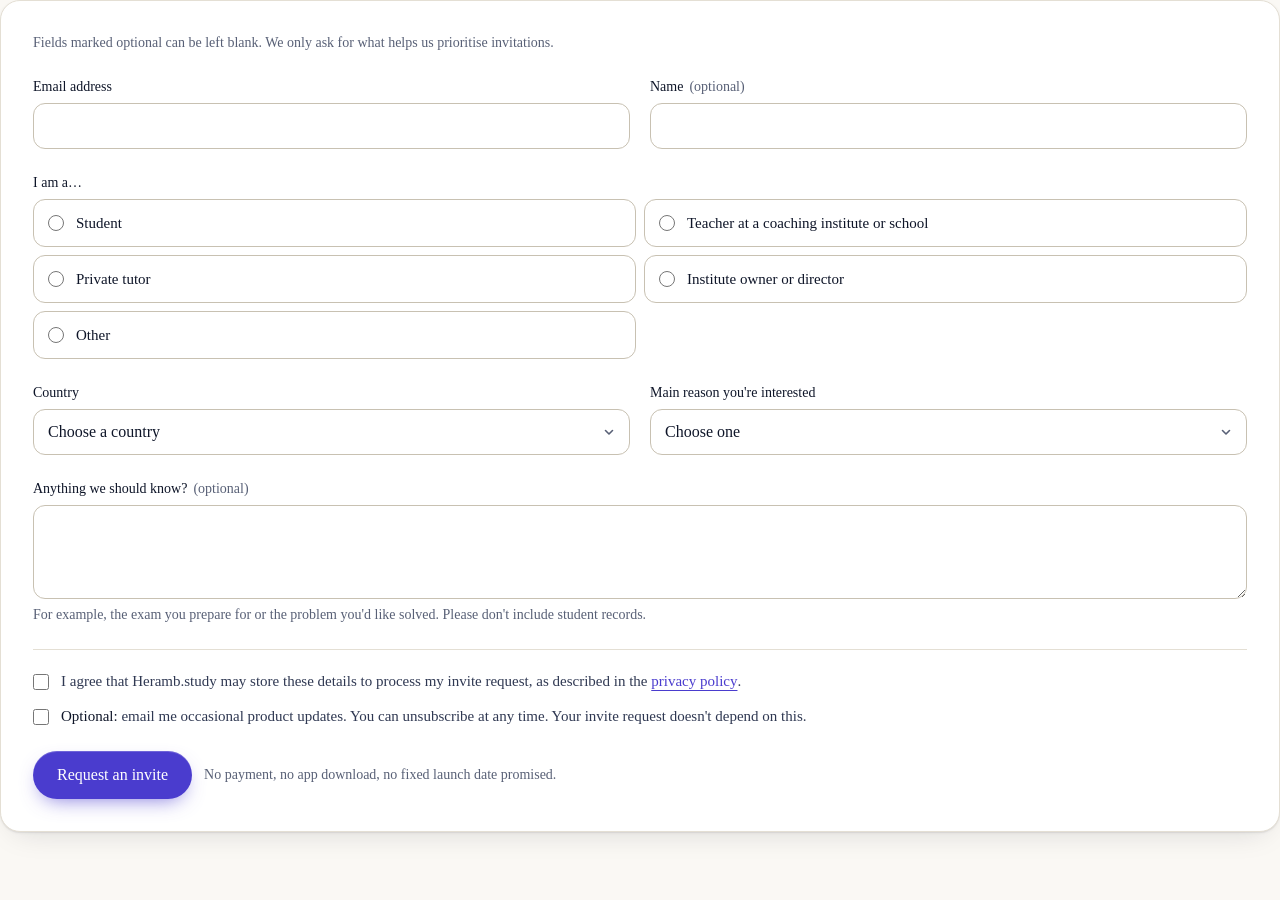
InviteForm › reports offline state without sending
This screenshot has width=1280, height=900.
In the field labelled "Email address": (332, 126) [33,103,630,149], type "teacher@example.com"
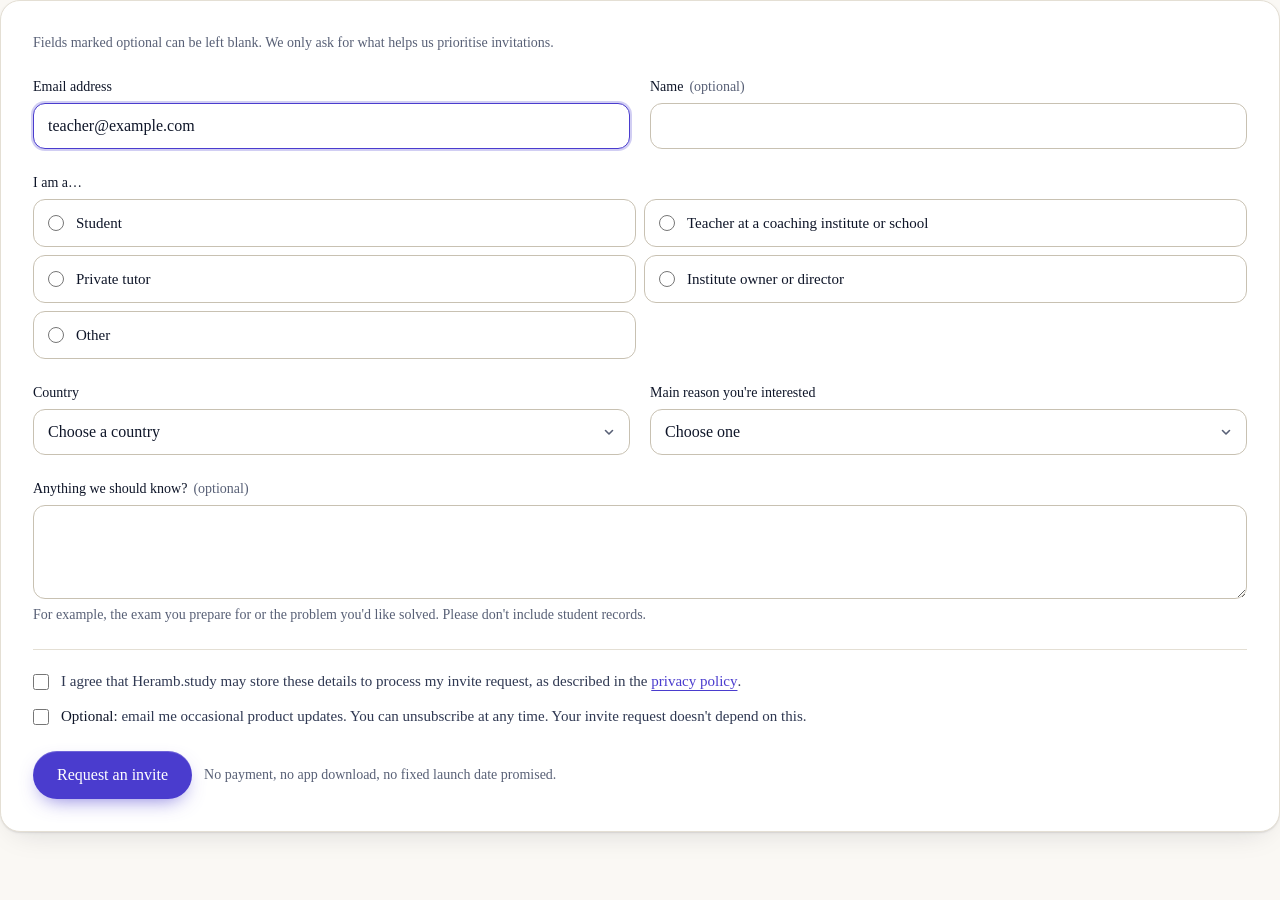
Click the radio button labelled "Private tutor": click(56, 279) [48,271,64,287]
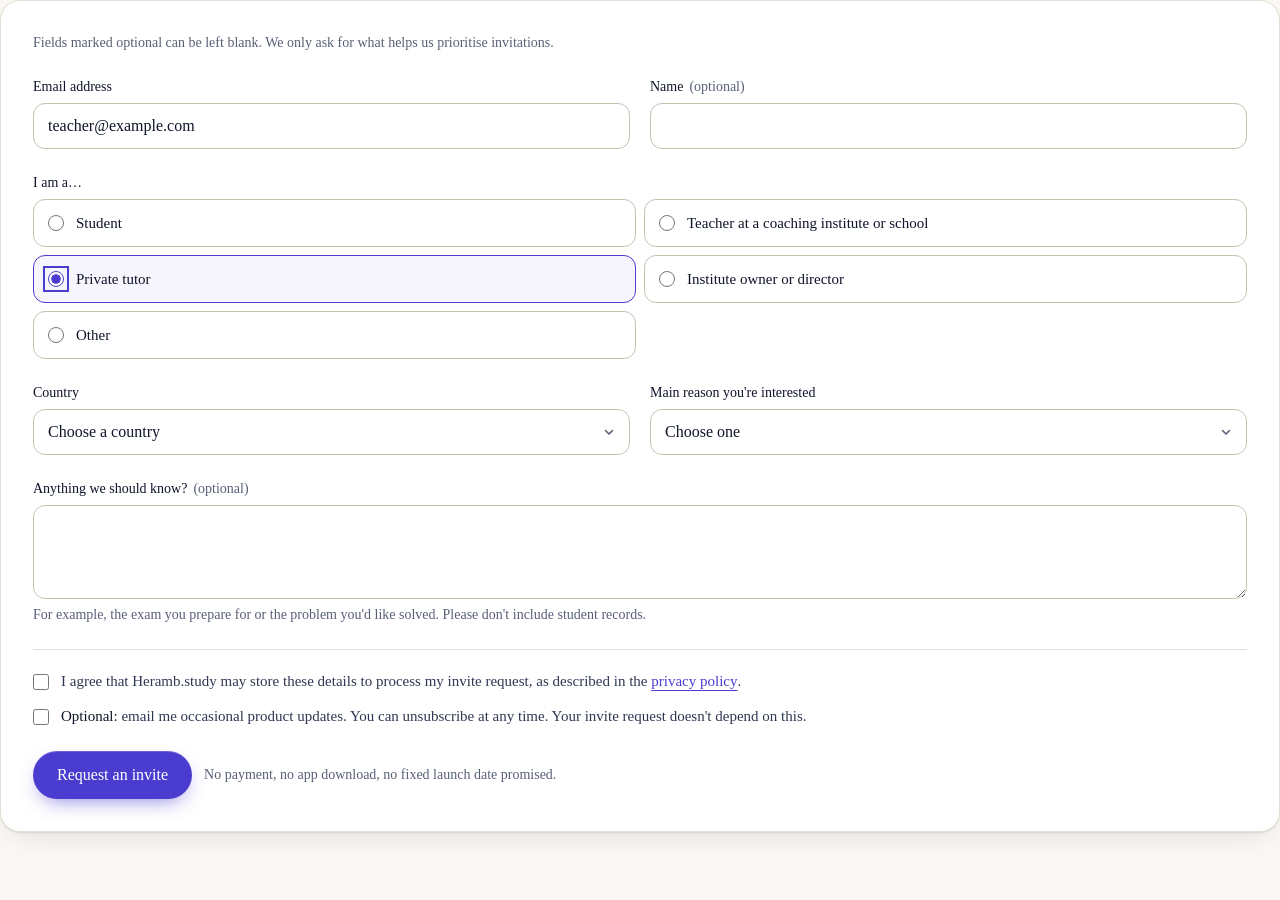
Select "India" in the dropdown labelled "Country": (332, 432) [33,409,630,455]
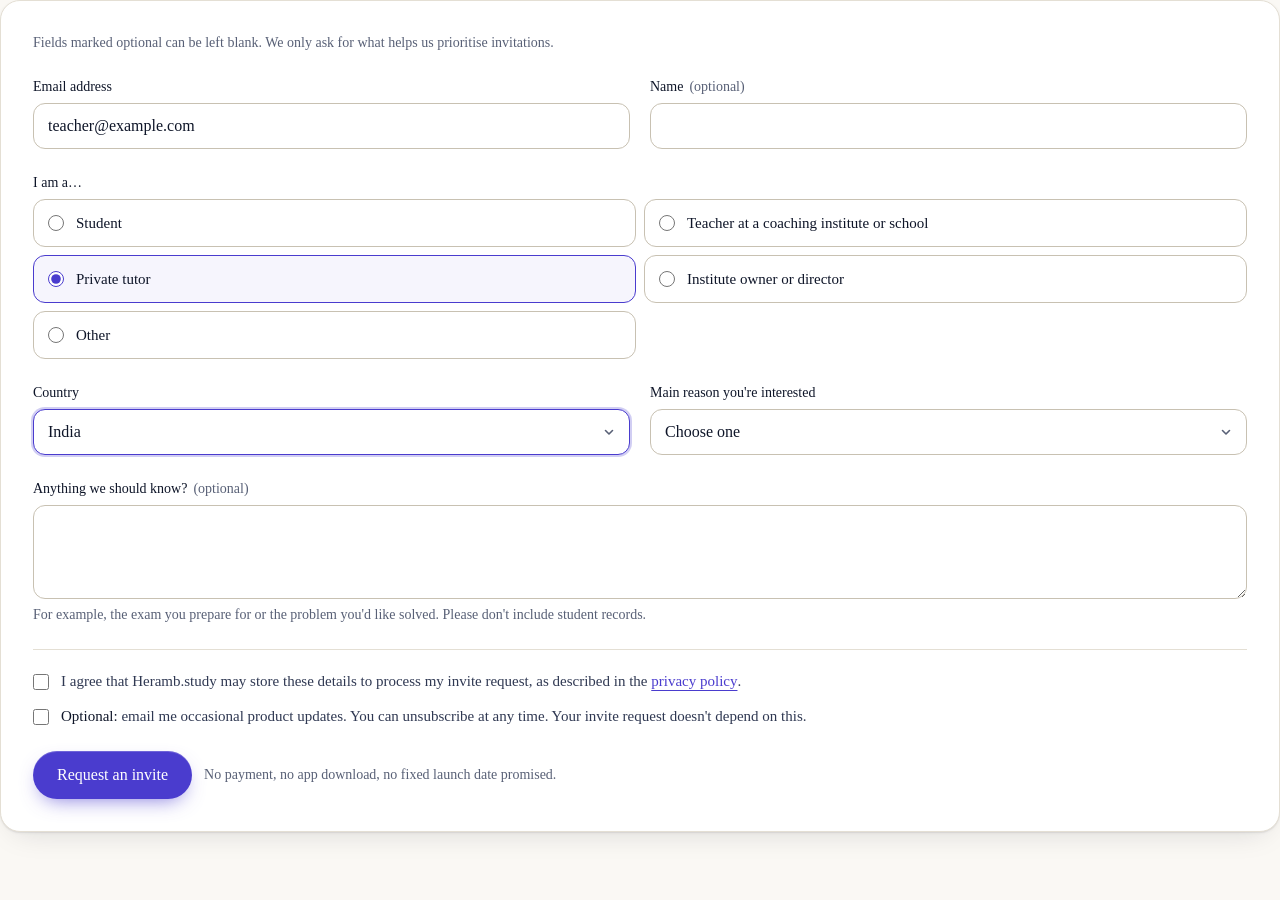
Select "Track student progress between tests" in the dropdown labelled "Main reason you're interested": (948, 432) [650,409,1247,455]
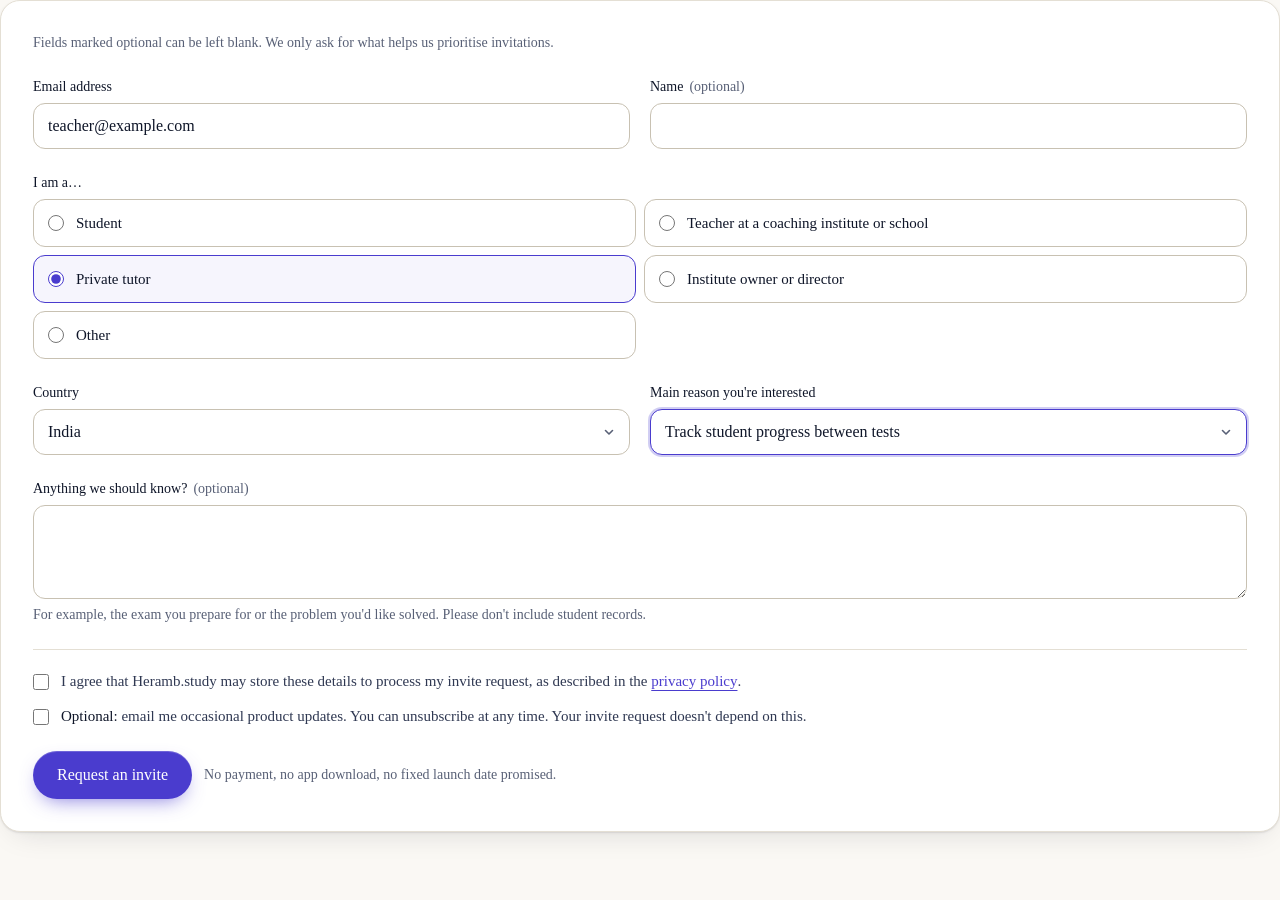
Click the checkbox labelled "I agree that Heramb.study may store": click(41, 682) [33,674,49,690]
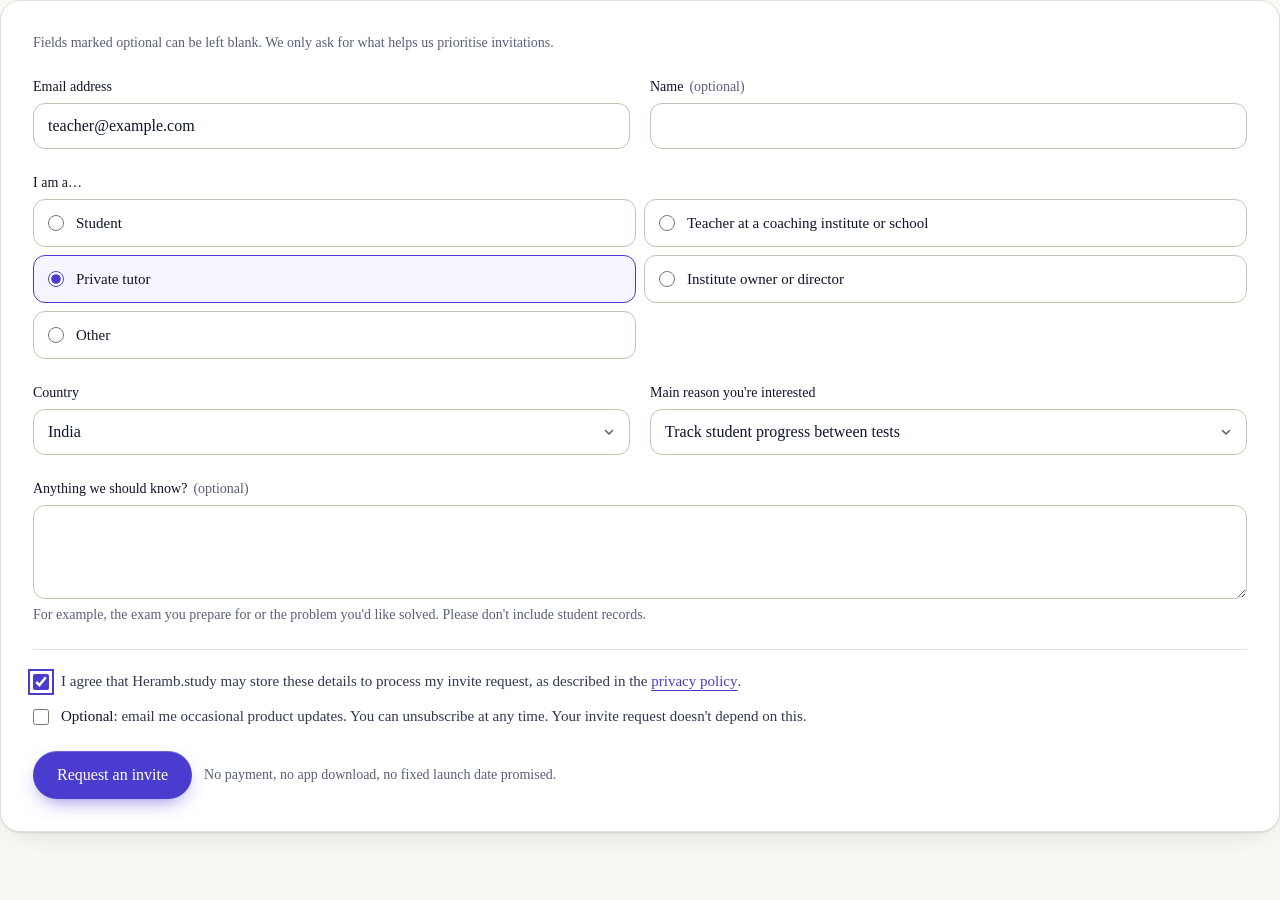
Click the button "Request an invite": click(113, 775) [33,751,192,799]
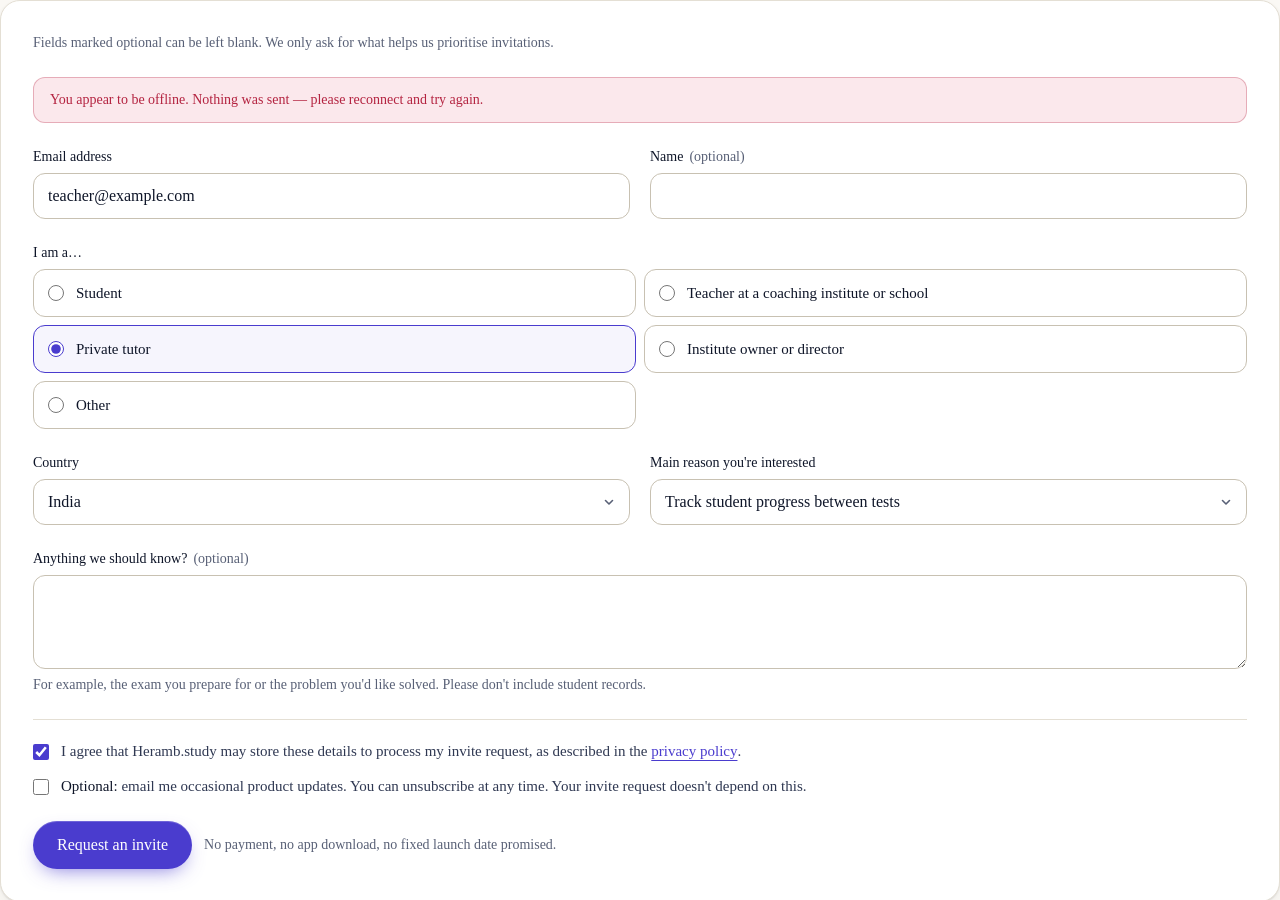
expect the message with test id "invite-error" shows "offline": met, box [50,92,483,107]
